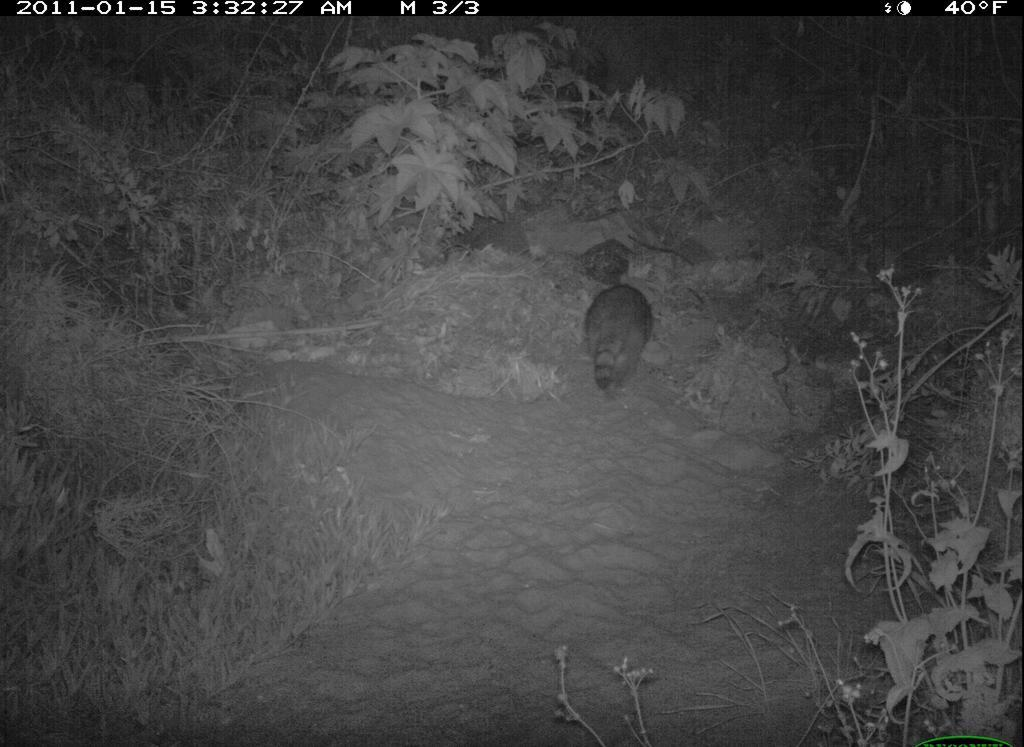raccoon: (577, 271, 664, 400)
